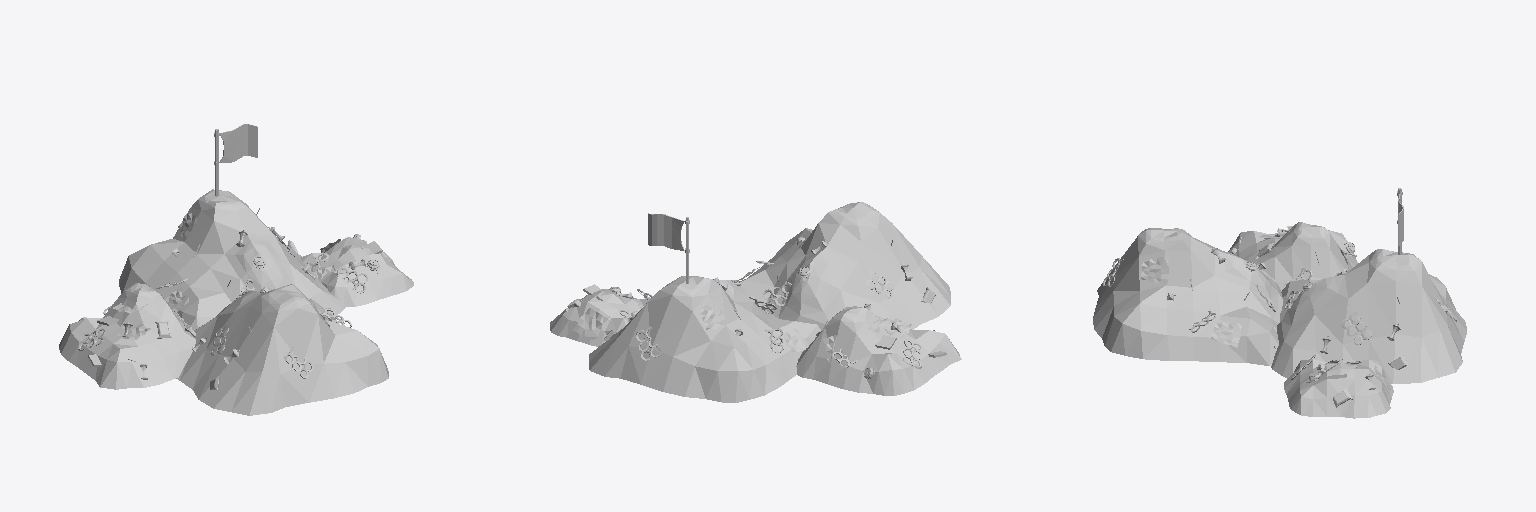
Rendered from garbageSurrender.obj.
3 views of the same model, side by side, from view 1: azimuth 30°, elevation 25°; view 2: azimuth 150°, elevation 25°; view 3: azimuth 270°, elevation 25° (orthographic).
Bounding box in the file's own units: 16.84 × 7.11 × 15.61.